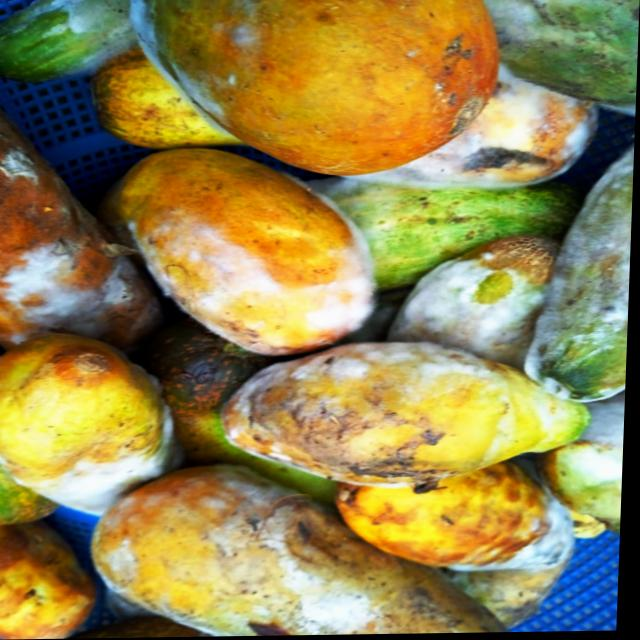Pythium-Fruit-Rot: (223, 342, 573, 492), (99, 462, 396, 637), (139, 174, 383, 359), (347, 72, 616, 195), (0, 144, 146, 345), (529, 150, 635, 409), (0, 404, 203, 522), (125, 0, 254, 138), (393, 255, 558, 359), (453, 489, 594, 581), (22, 0, 139, 80), (565, 400, 628, 496), (479, 0, 556, 64)
